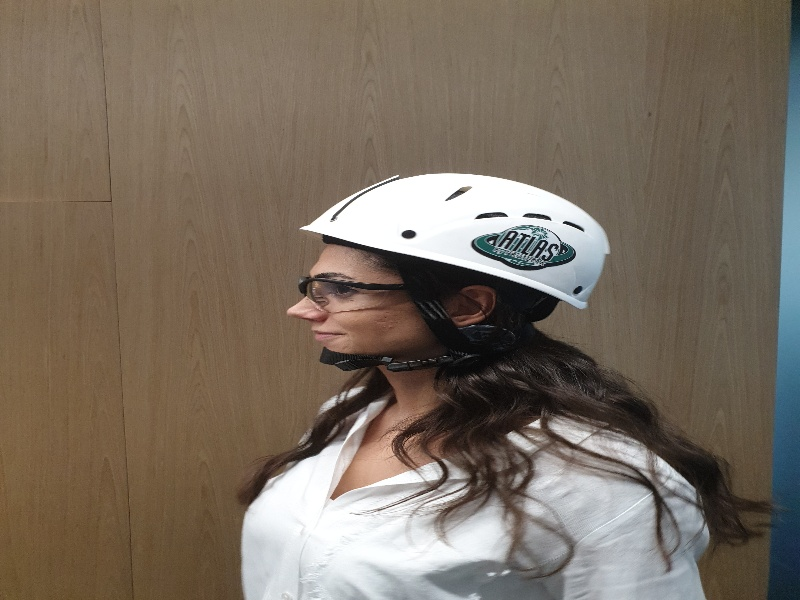Baret: (301, 173, 610, 286)
Gozluk: (298, 278, 429, 307)
